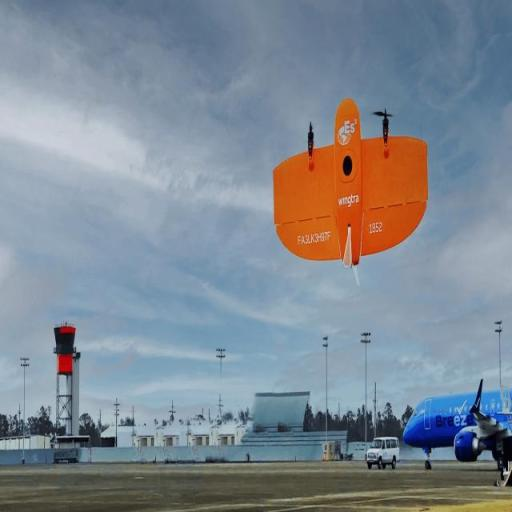uav: (268, 94, 434, 285)
